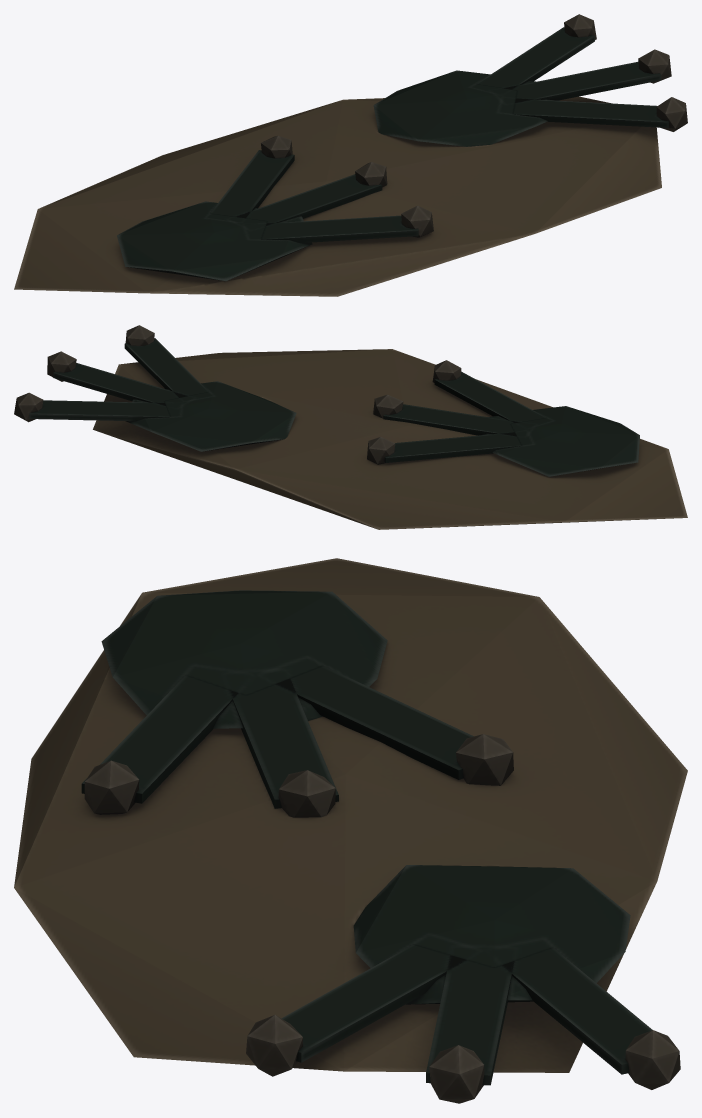
Rendered from sign_mother_tracks.glb.
The picture shows the model from 3 angles, top to bottom: view 1: azimuth 30°, elevation 25°; view 2: azimuth 150°, elevation 25°; view 3: azimuth 270°, elevation 25°; orthographic projection. The views are drawn at different scales.
Parts seen in each view (by area): view 1: sign_mother_tracks; view 2: sign_mother_tracks; view 3: sign_mother_tracks.
Boxes of the visible parts, box(x1,y1,x2,y2) form: sign_mother_tracks: box(14, 14, 687, 296); sign_mother_tracks: box(14, 325, 687, 529); sign_mother_tracks: box(14, 558, 687, 1103).
Size of the model in its own units: 2.55 by 0.2192 by 1.24.
1 material, 1 textured.
